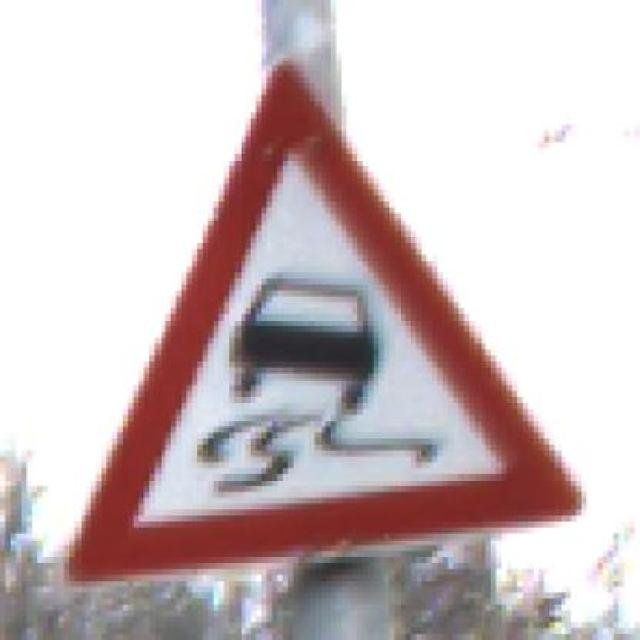Slippery Road Ahead: (42, 53, 598, 581)
